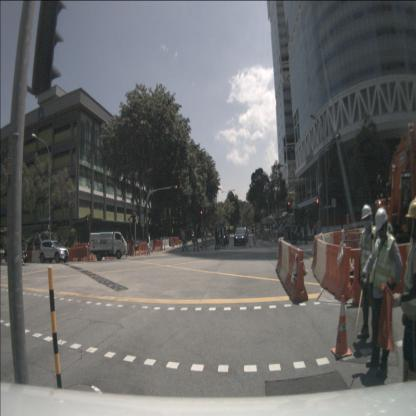barrier: (321, 243, 353, 300), (285, 245, 308, 301), (333, 230, 354, 264), (314, 239, 328, 284), (318, 232, 334, 266), (279, 240, 291, 285), (276, 240, 284, 274), (312, 236, 318, 272), (59, 247, 73, 262), (72, 247, 86, 262), (31, 250, 42, 263), (125, 243, 136, 256), (138, 243, 149, 254), (152, 240, 162, 250), (24, 251, 32, 263), (162, 238, 170, 250), (146, 241, 154, 251), (165, 237, 173, 247), (172, 237, 180, 246)
cone: (330, 295, 352, 359), (89, 252, 92, 262), (159, 243, 162, 252), (151, 244, 154, 253), (157, 244, 160, 252), (154, 244, 157, 252), (161, 244, 164, 252), (139, 248, 142, 256), (172, 240, 175, 248), (144, 247, 147, 254), (254, 236, 256, 245), (276, 235, 278, 243), (164, 244, 166, 251), (275, 235, 277, 242)
